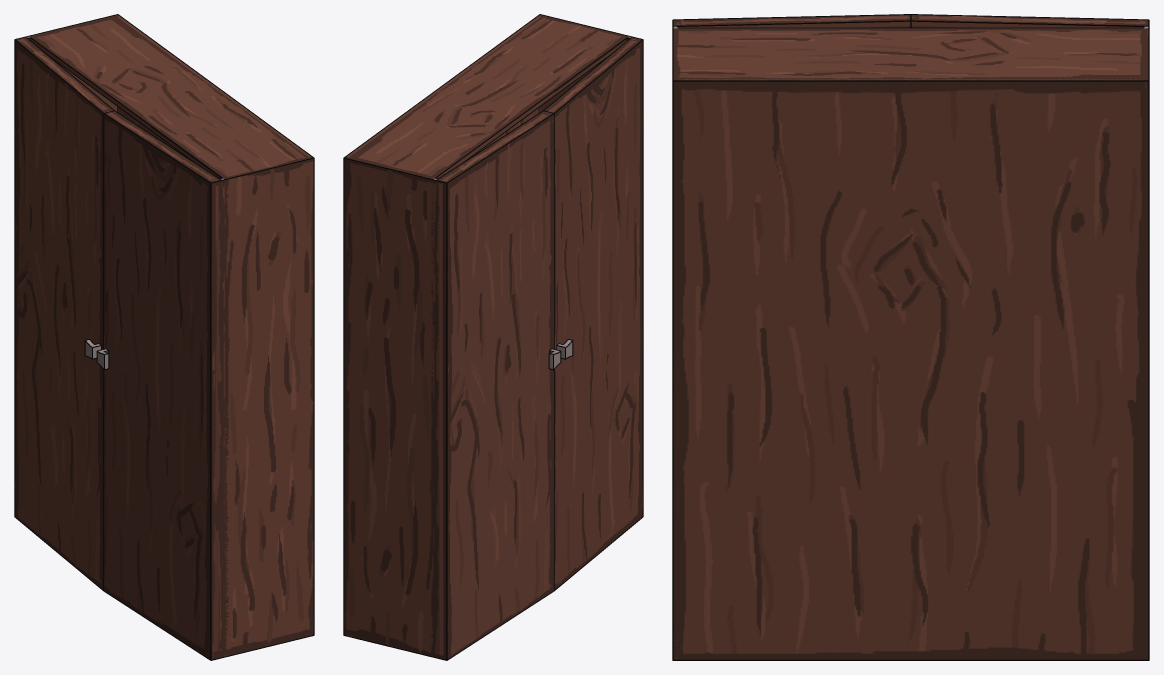
The model's file is dressing_old.glb.
3 views of the same model, side by side, from view 1: azimuth 30°, elevation 25°; view 2: azimuth 150°, elevation 25°; view 3: azimuth 270°, elevation 25° (orthographic). The views are drawn at different scales.
Visible parts, largest first — view 1: Cube.001; view 2: Cube.001; view 3: Cube.001.
Part boxes in pixels (x1,y1,x2,y2): Cube.001: (14, 14, 314, 660); Cube.001: (343, 14, 643, 660); Cube.001: (672, 14, 1149, 660).
Size of the model in its own units: 2.65 by 9.92 by 7.39.
2 materials, 1 textured.
